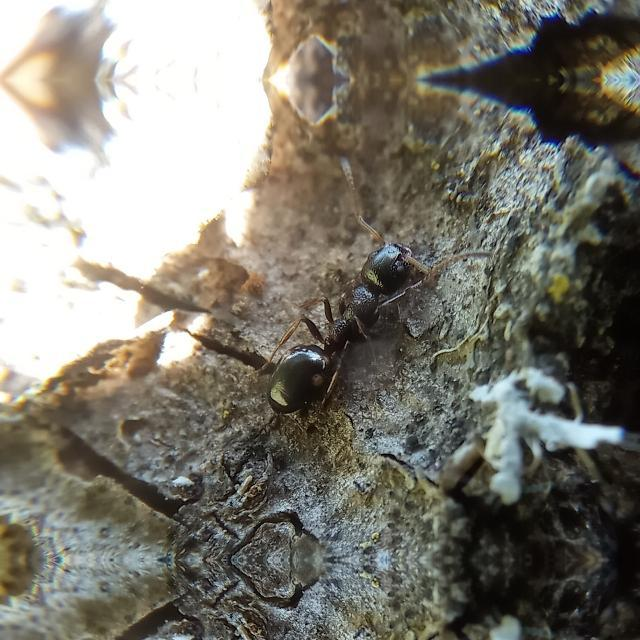Dolichoderus: (231, 211, 444, 431)
